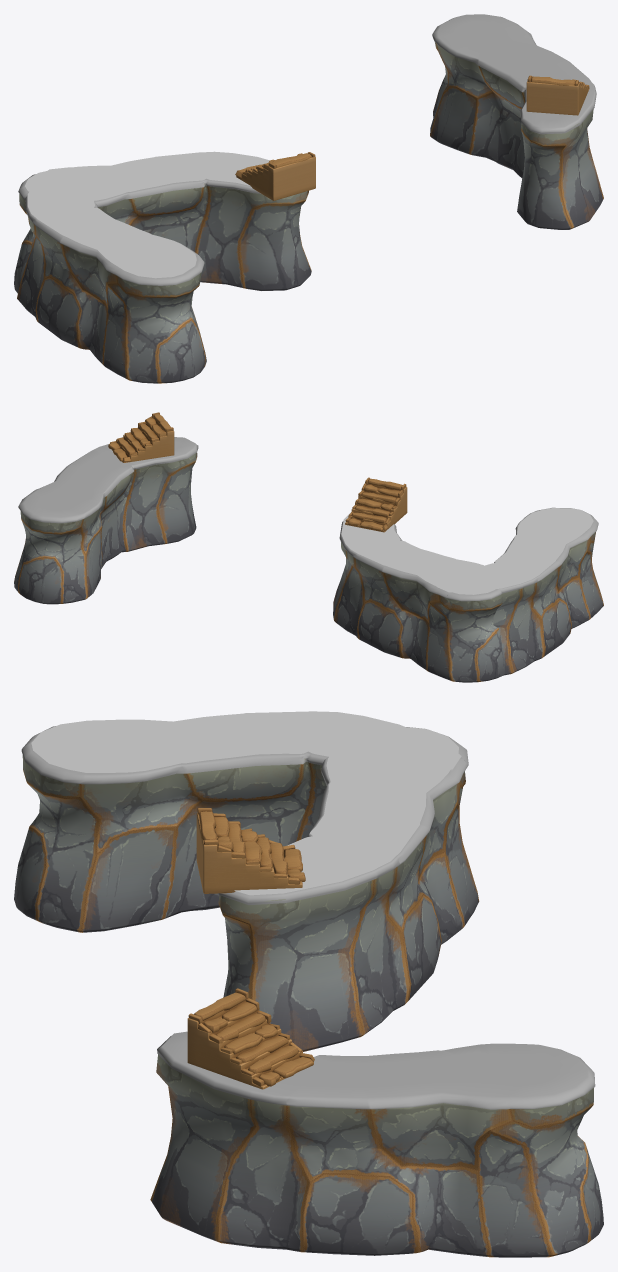
The model's file is EnvironmentTest_01.fbx.
3 views of the same model, one above another, from view 1: azimuth 30°, elevation 25°; view 2: azimuth 150°, elevation 25°; view 3: azimuth 270°, elevation 25° (orthographic). The views are drawn at different scales.
Parts seen in each view (by area): view 1: CardboardBase (×3), Roots1 (×2), GrassTop (×3), Base, Stairs:Base; view 2: CardboardBase (×3), Roots1 (×2), GrassTop (×3), Base, Stairs:Base; view 3: CardboardBase (×3), Roots1 (×2), GrassTop (×3), Base, Stairs:Base, Stairs:Step_Rail, Step_Rail.
Part boxes in pixels (left/top/right/bottom): CardboardBase (×3): left=14, top=42, right=603, bottom=383; Roots1 (×2): left=25, top=151, right=269, bottom=278; GrassTop (×3): left=18, top=14, right=596, bottom=285; Base: left=236, top=156, right=315, bottom=200; Stairs:Base: left=526, top=81, right=589, bottom=115; CardboardBase (×3): left=14, top=453, right=603, bottom=682; Roots1 (×2): left=341, top=508, right=593, bottom=594; GrassTop (×3): left=18, top=437, right=598, bottom=601; Base: left=345, top=482, right=407, bottom=532; Stairs:Base: left=111, top=417, right=174, bottom=462; CardboardBase (×3): left=14, top=755, right=603, bottom=1257; Roots1 (×2): left=31, top=711, right=461, bottom=895; GrassTop (×3): left=21, top=726, right=595, bottom=1109; Base: left=196, top=813, right=302, bottom=893; Stairs:Base: left=187, top=1000, right=313, bottom=1089; Stairs:Step_Rail: left=188, top=988, right=314, bottom=1086; Step_Rail: left=197, top=808, right=299, bottom=884.
Size of the model in its own units: 73.68 by 18.61 by 44.16.
